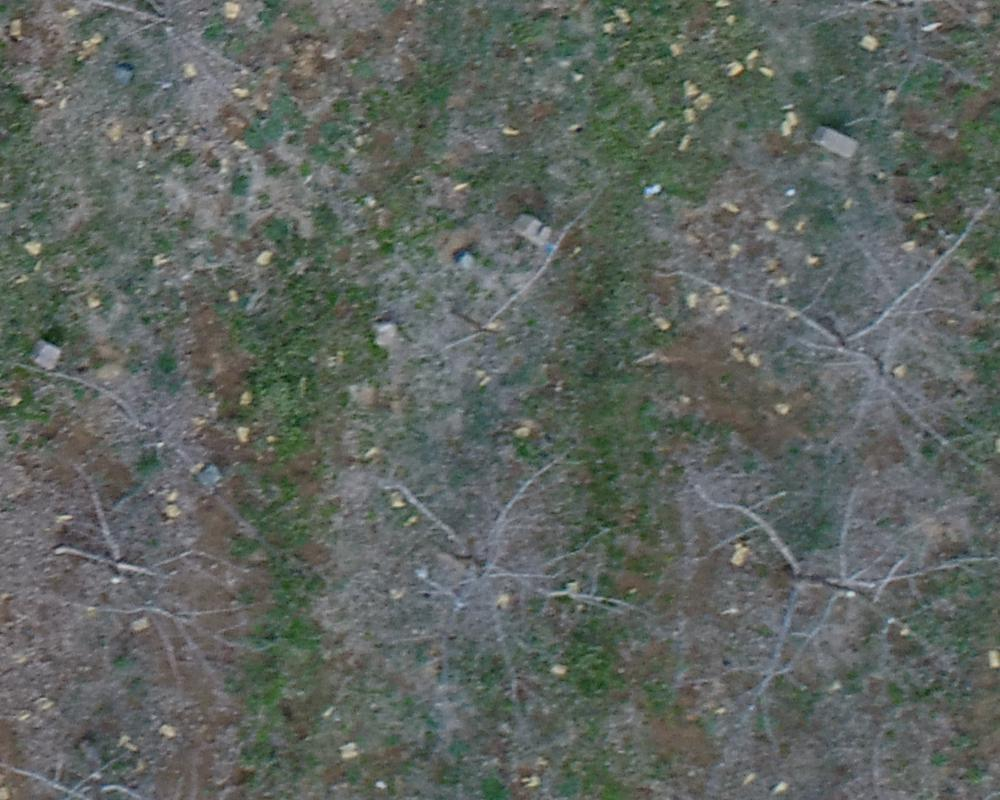apple: (669, 173, 990, 491), (654, 436, 990, 727), (337, 433, 646, 700), (10, 450, 273, 694)
